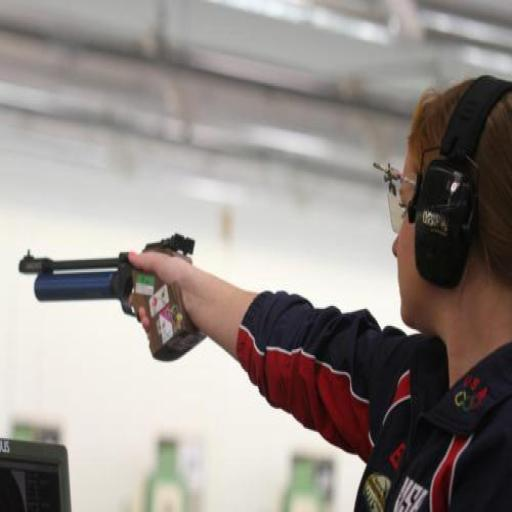shooting: (123, 72, 511, 510)
